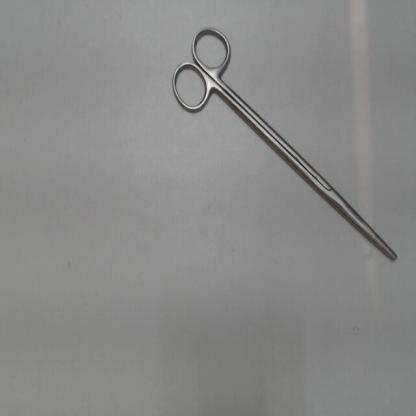9 Metzenbaum Scissors: (164, 21, 400, 266)
